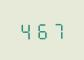four: (18, 20, 32, 40)
seven: (49, 19, 63, 39)
six: (34, 20, 48, 39)
